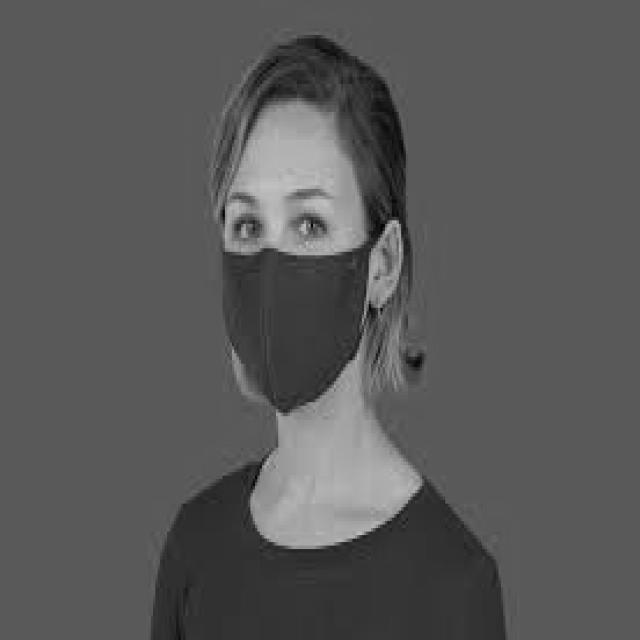with_mask: (218, 228, 373, 410)
